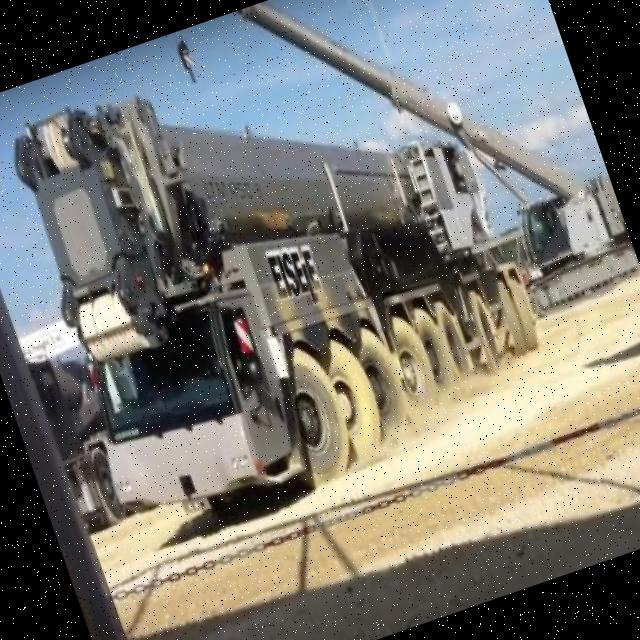Mobile Crane: (0, 0, 561, 544), (240, 0, 640, 370)
